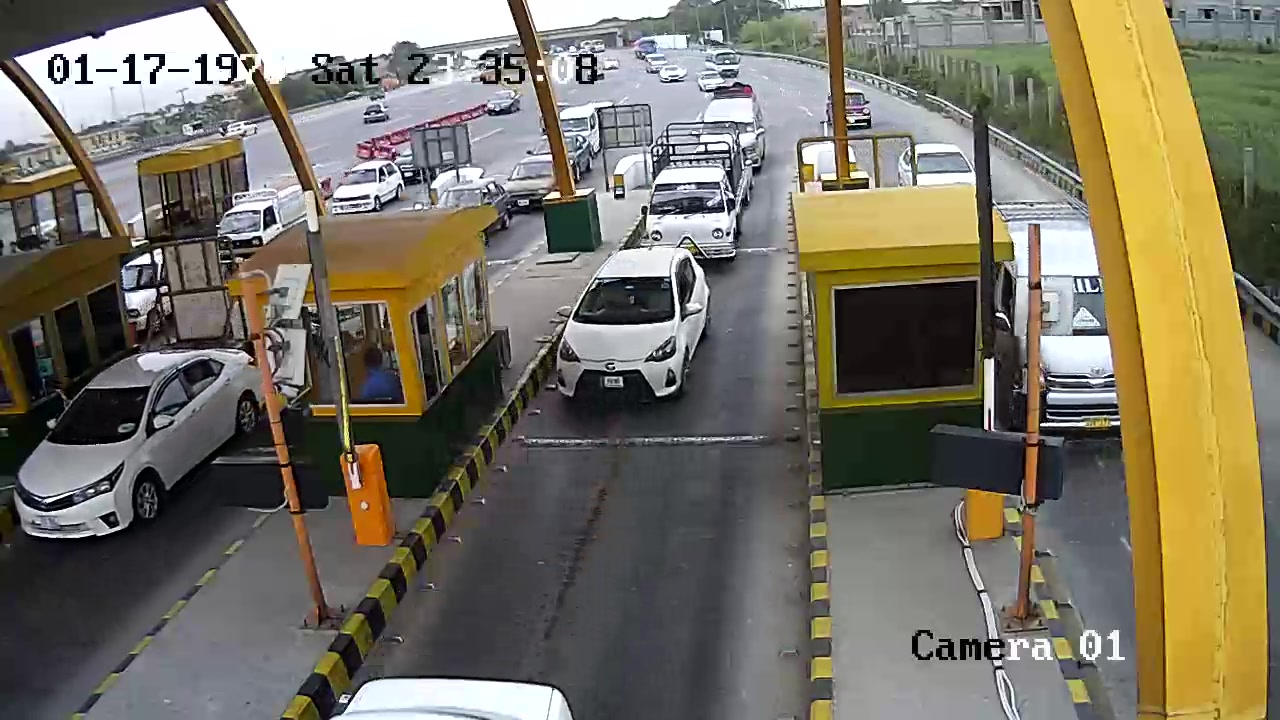F1: (551, 236, 724, 428)
